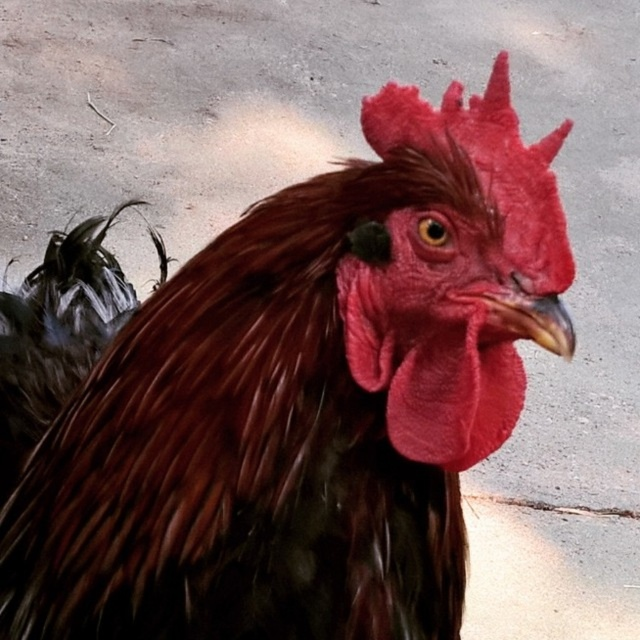Chicken: (0, 51, 578, 640)
